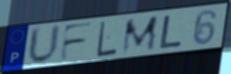6: (192, 8, 218, 47)
F: (58, 21, 96, 63)
L: (158, 14, 184, 51), (96, 20, 119, 59)
M: (120, 14, 160, 56)
U: (26, 24, 63, 67)
